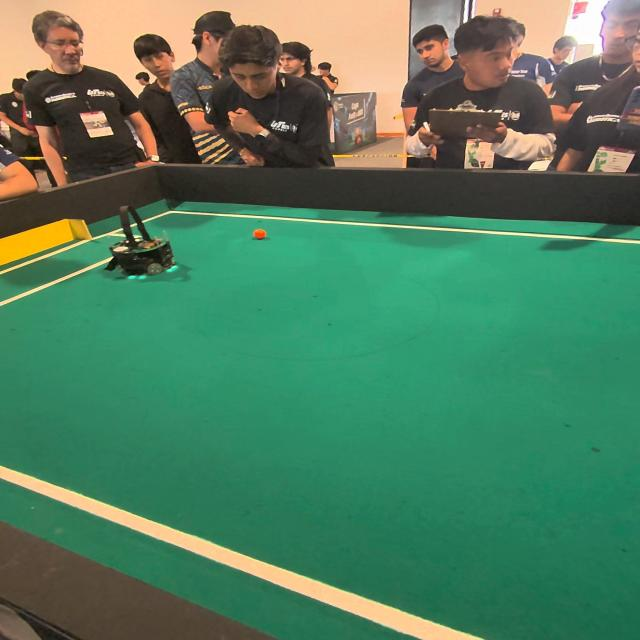Robot: (104, 202, 182, 290)
pelota: (238, 223, 284, 253)
